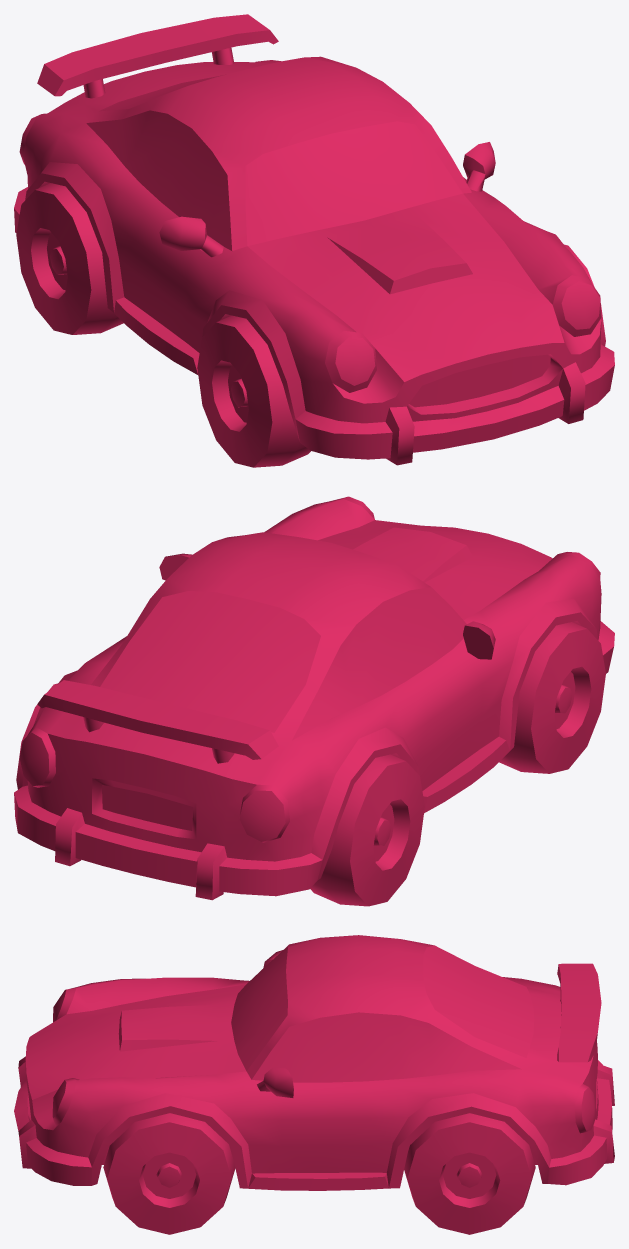
Rendered from Vehicle_Land_SportsCar.fbx.
The picture shows the model from 3 angles, top to bottom: view 1: azimuth 30°, elevation 25°; view 2: azimuth 150°, elevation 25°; view 3: azimuth 270°, elevation 25°; orthographic projection. The views are drawn at different scales.
Parts seen in each view (by area): view 1: Vehicle_Land_SportsCar; view 2: Vehicle_Land_SportsCar; view 3: Vehicle_Land_SportsCar.
Part boxes in pixels (bbox=[...]): Vehicle_Land_SportsCar: bbox=[14, 14, 614, 467]; Vehicle_Land_SportsCar: bbox=[14, 496, 614, 906]; Vehicle_Land_SportsCar: bbox=[14, 935, 614, 1234].
Bounding box in the file's own units: 57.21 × 40.64 × 105.
